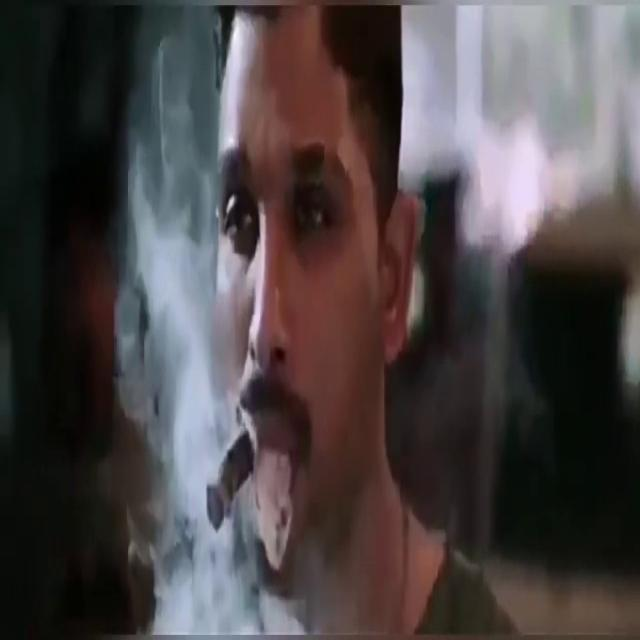smoking: (143, 221, 284, 594)
